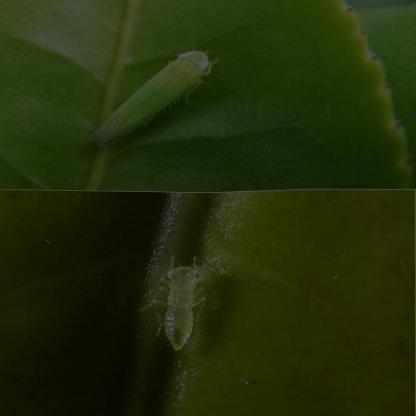green-leafhopper: (92, 40, 214, 149), (142, 240, 225, 349)
